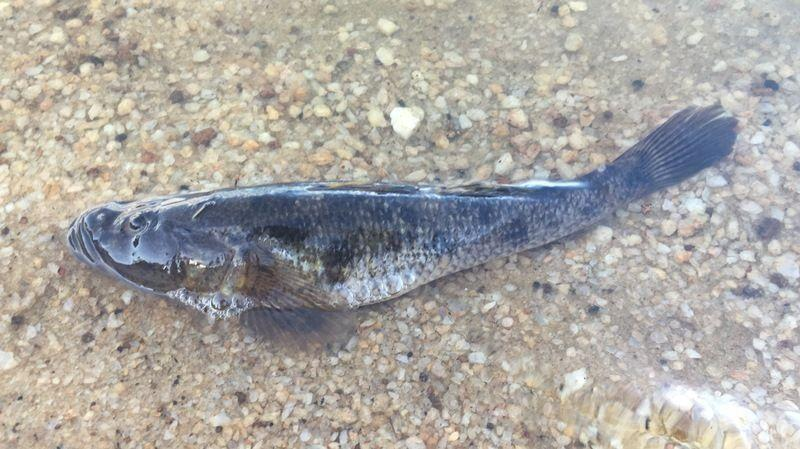Goby: (65, 100, 740, 363)
